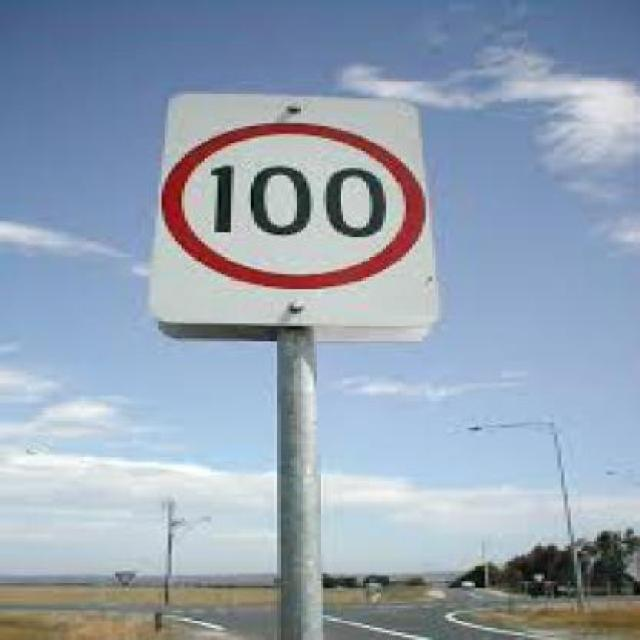speed limit 100: (162, 120, 427, 293)
